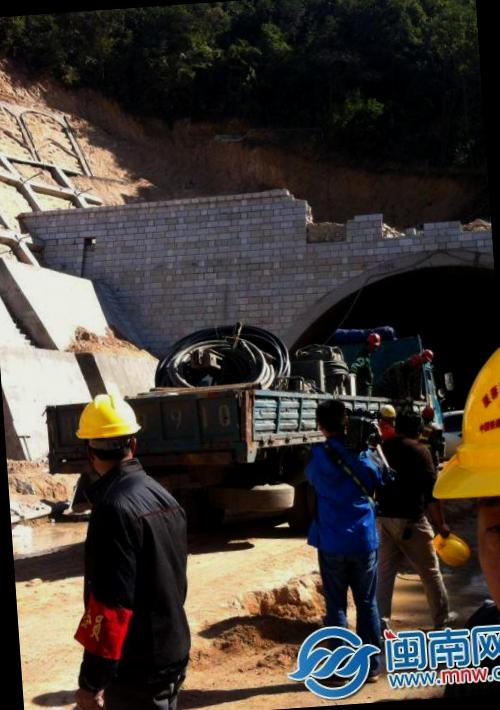no_helmet: (308, 390, 356, 444)
